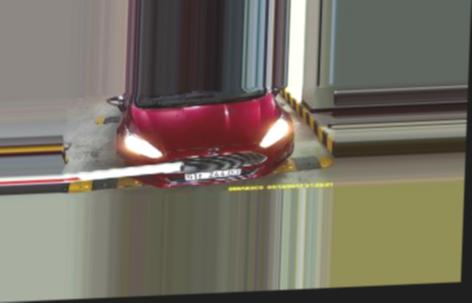License_Plate: (181, 167, 244, 182)
